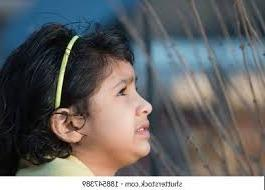Human: (1, 19, 157, 190)
